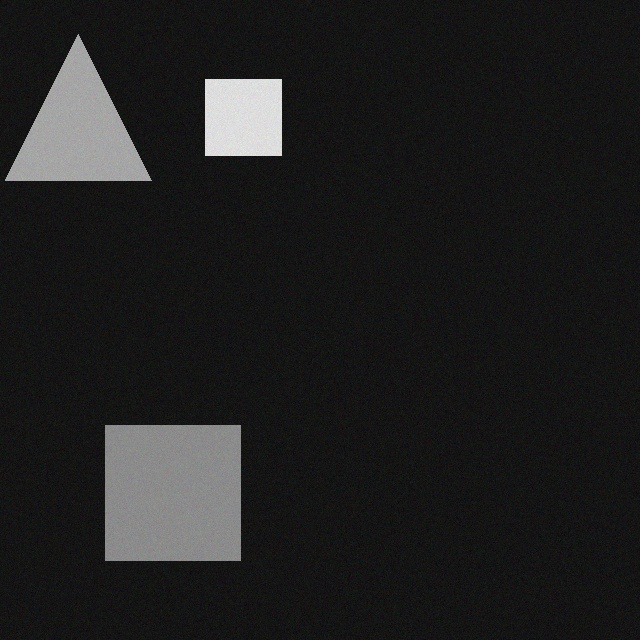square: (110, 416, 245, 551), (210, 70, 286, 146)
triangle: (10, 25, 156, 171)
